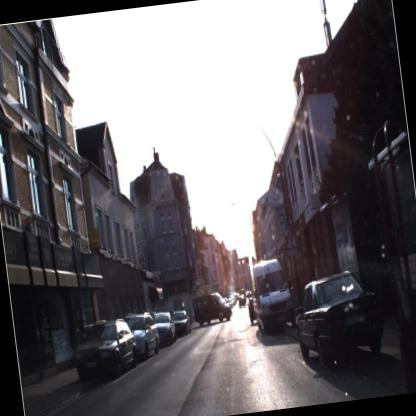danger: (280, 222, 302, 254)
